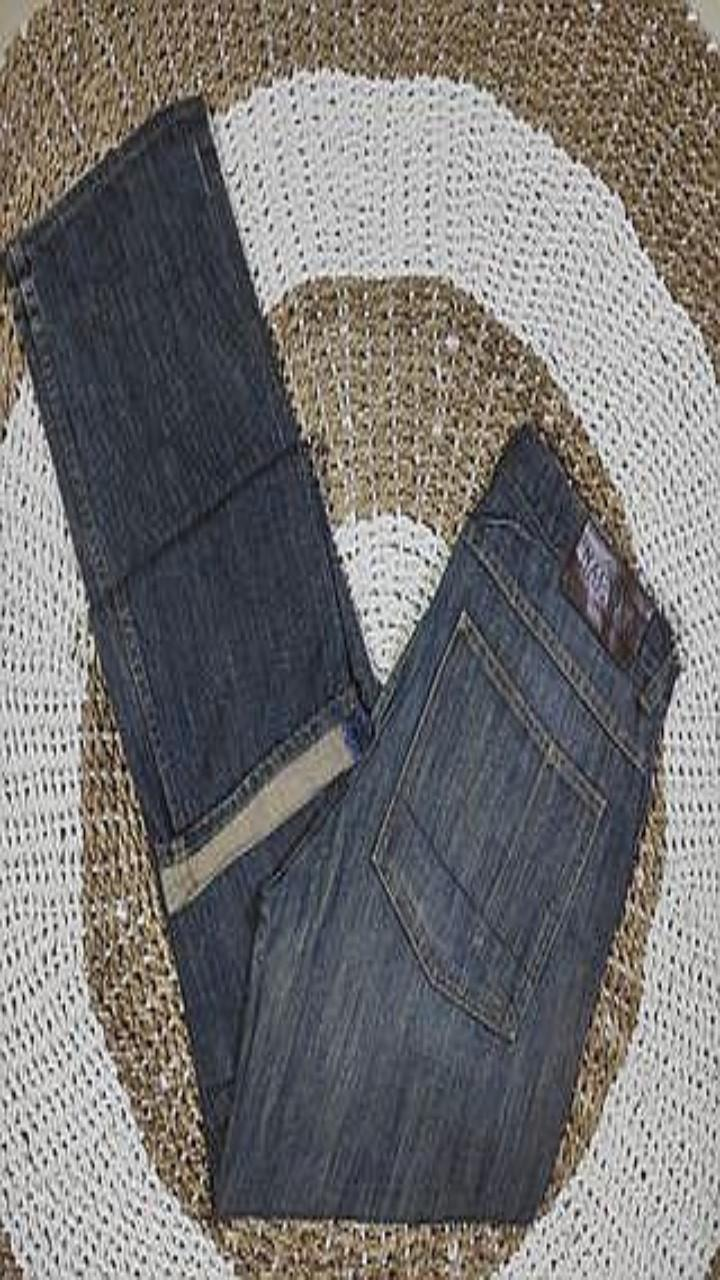Jeans: (7, 99, 677, 1221)
